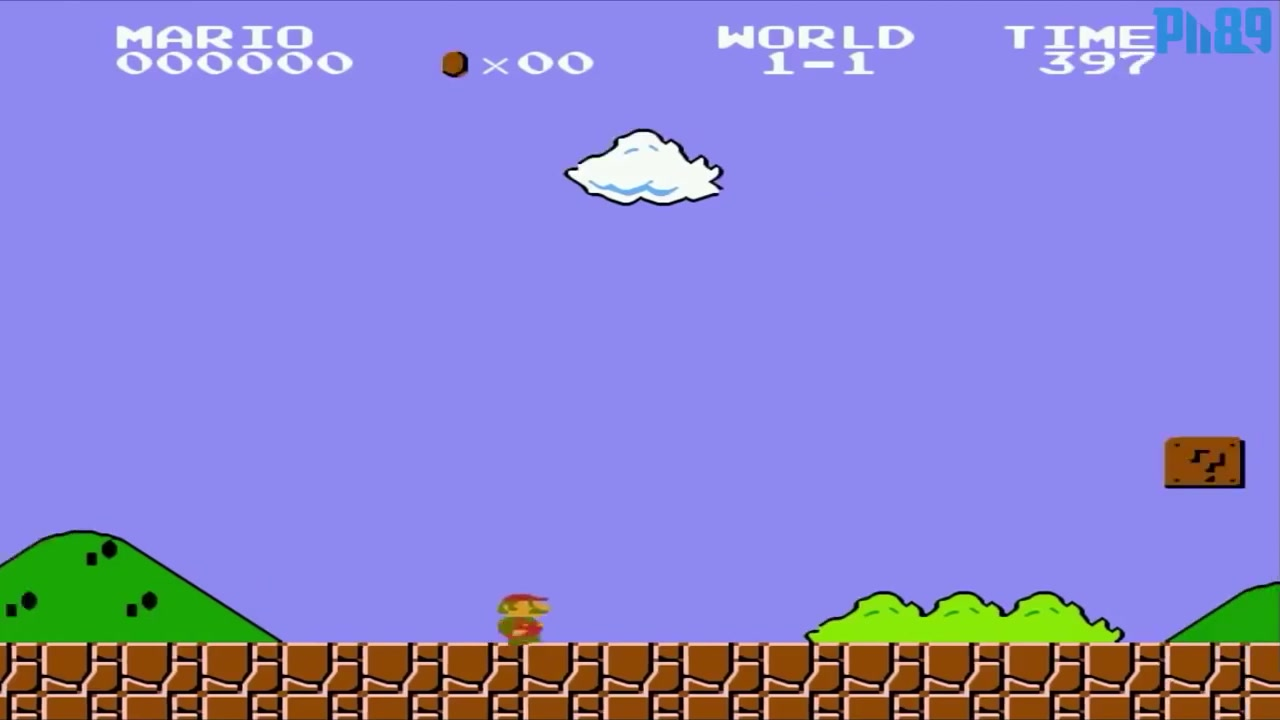mario: (471, 579, 557, 651)
